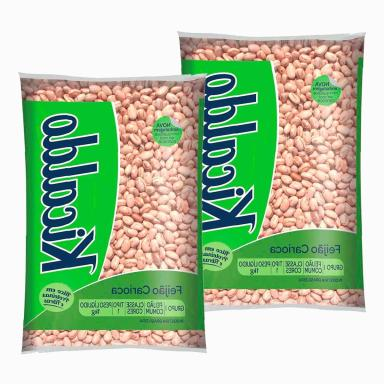beans package: (180, 33, 364, 310), (21, 74, 205, 351)
